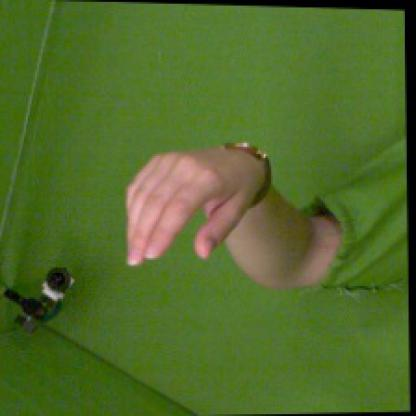Hand: (125, 144, 268, 267)
